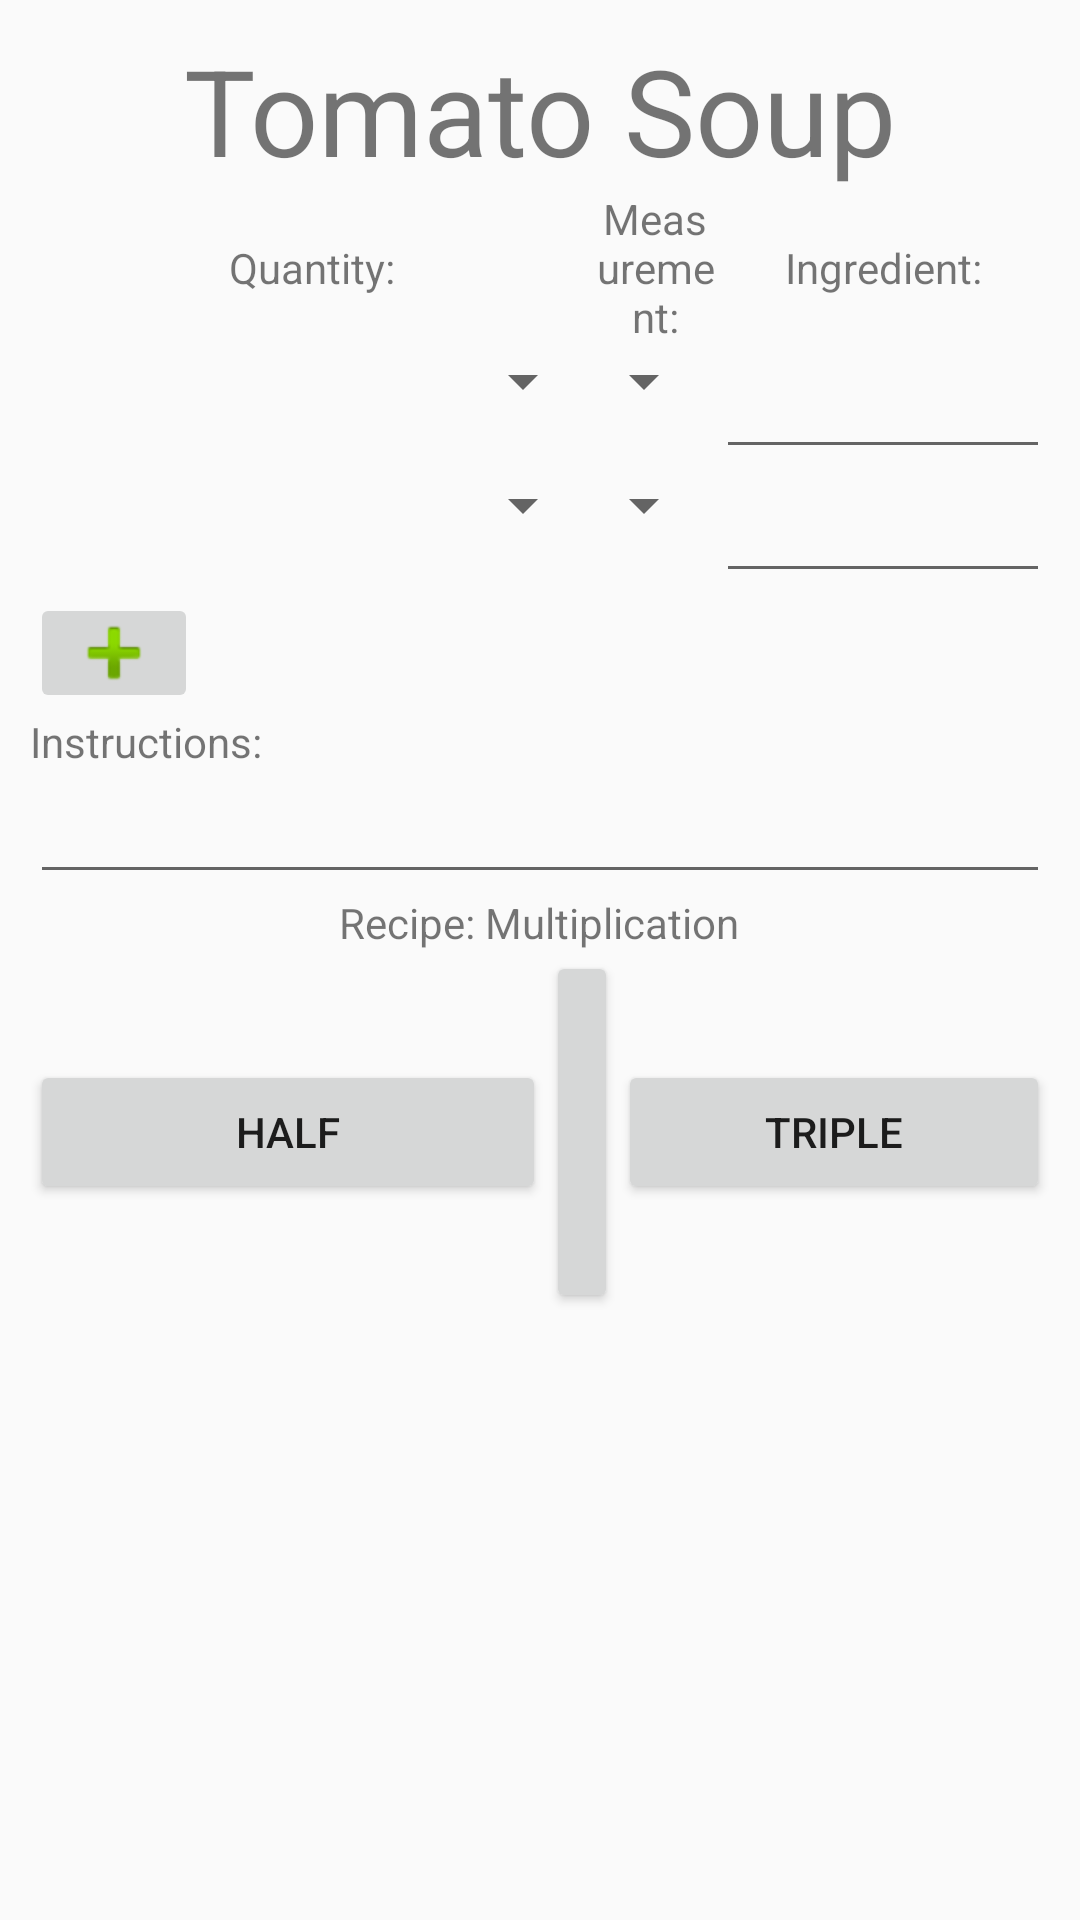

Where to tap for icons on this 1080x1920 app screen, as (x,y):
add: (114,653)
